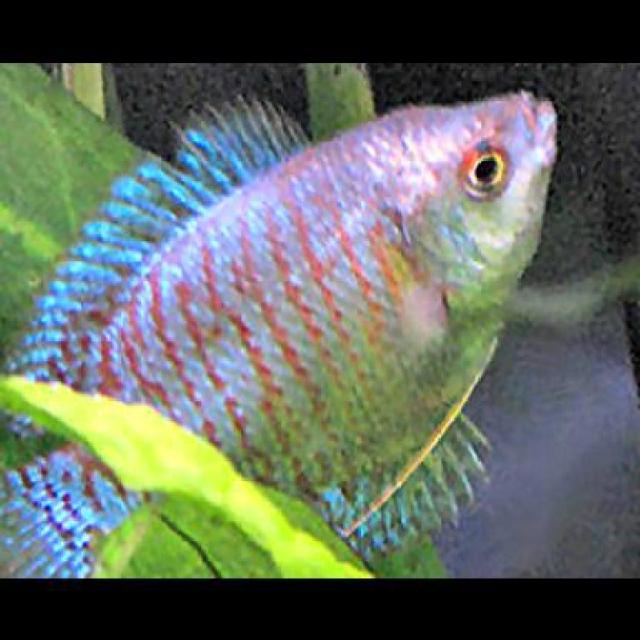Gourami: (2, 78, 570, 577)
